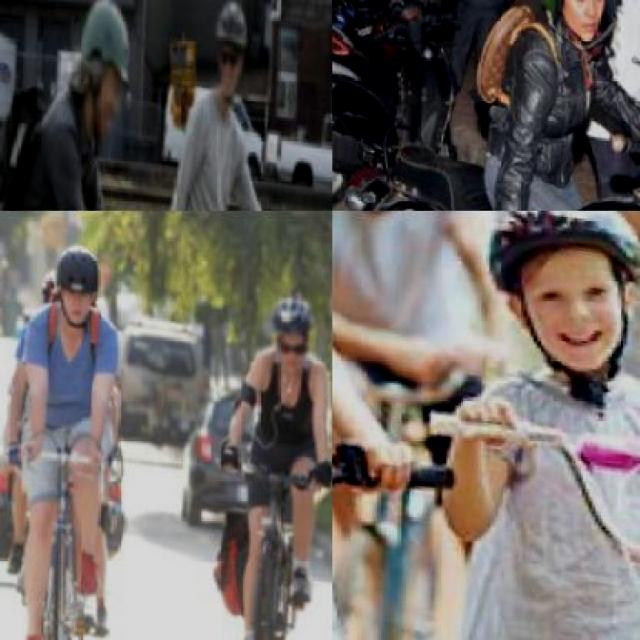With Helmet: (448, 211, 638, 409), (57, 0, 141, 149), (242, 278, 331, 388), (31, 230, 114, 336), (194, 0, 254, 112), (519, 0, 635, 35)
